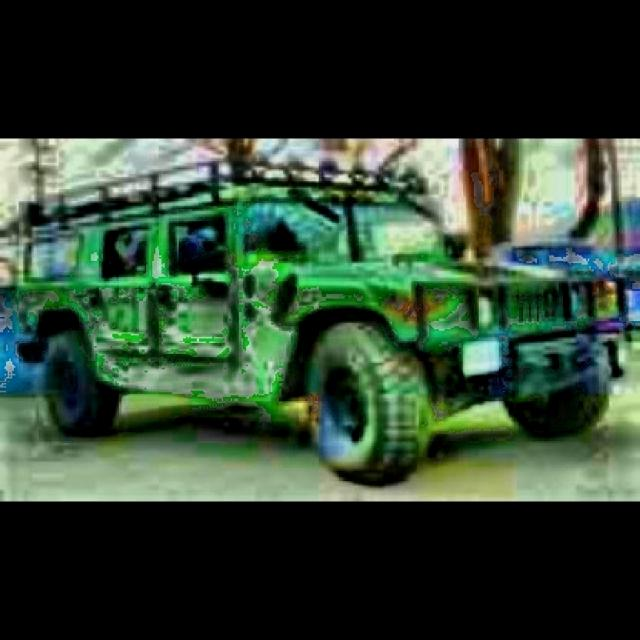green: (16, 178, 622, 474)
